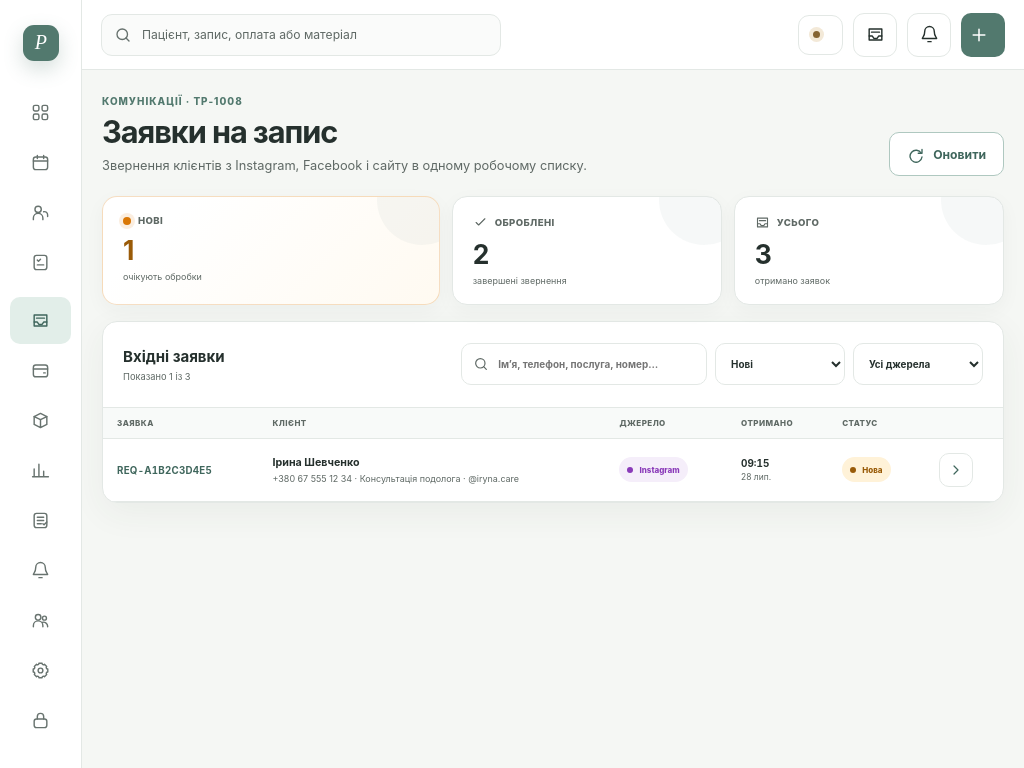
Test: BookingRequestsPage › opens reload-stable details and marks a request processed
The image size is (1024, 768).
Click the button named "Відкрити заявку REQ-A1B2C3D4E5 — Ірина Шевченко". click: (956, 470)
box: x1=939 y1=452 x2=973 y2=486
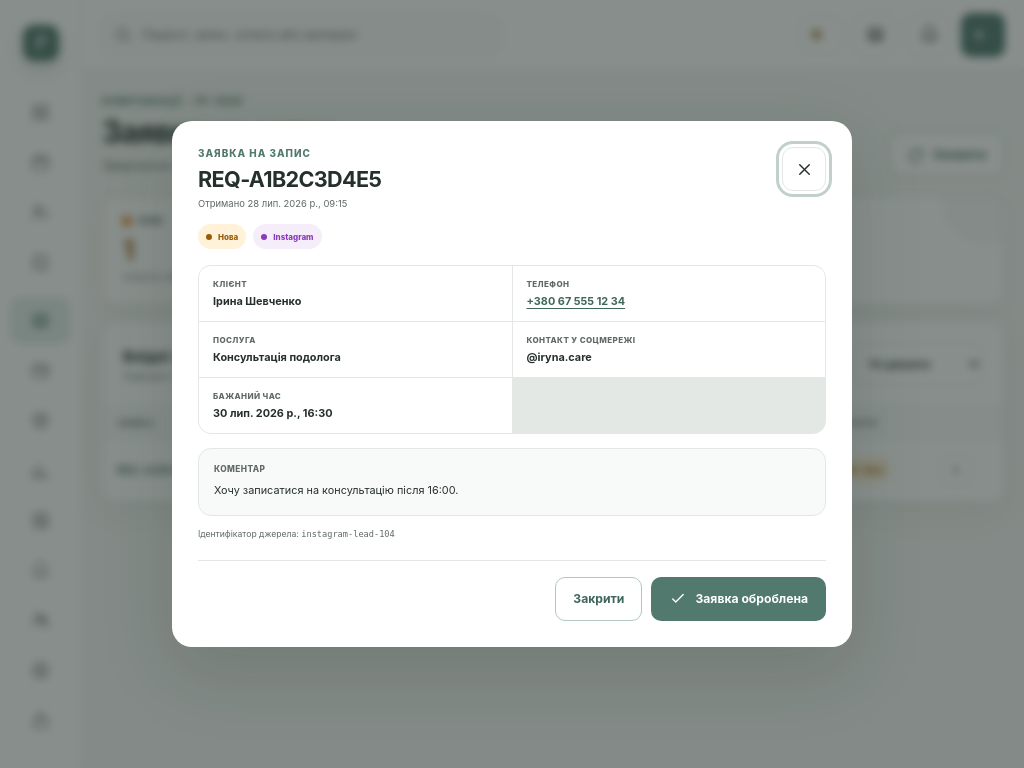
Expected: the text "Хочу записатися на консультацію після 16:00." is shown, x1=214 y1=483 x2=458 y2=497
Expected: the text "Консультація подолога" is shown, x1=213 y1=350 x2=341 y2=364
Click the button "Заявка оброблена". click: (739, 599)
box: x1=652 y1=577 x2=826 y2=621
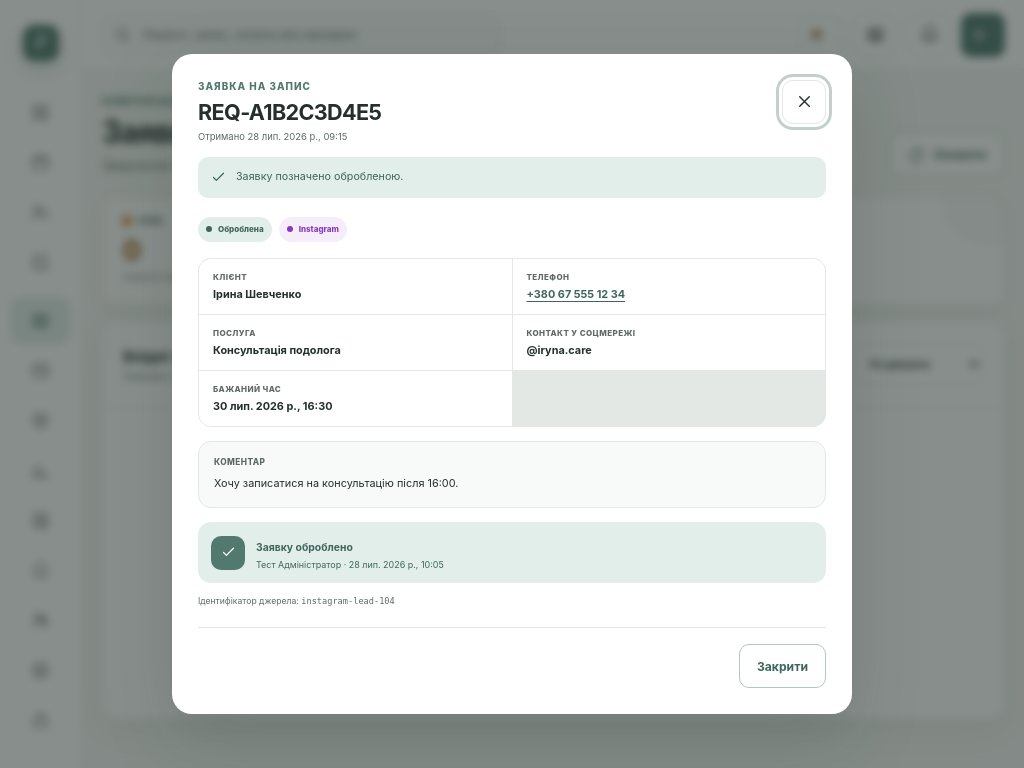
Expected: the text "Заявку позначено обробленою." is shown, x1=236 y1=168 x2=404 y2=184
Expected: the text "Заявку оброблено" is shown, x1=256 y1=542 x2=353 y2=554
Expected: the text "Тест Адміністратор · 28 лип. 2026 р., 10:05" is shown, x1=256 y1=560 x2=444 y2=570
